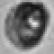correct: (3, 2, 52, 52)
